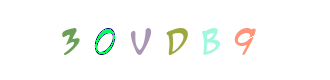3: (64, 0, 144, 80)
9: (199, 0, 279, 80)
B: (126, 0, 206, 80)
D: (125, 0, 205, 80)
O: (65, 0, 145, 80)
V: (88, 0, 168, 80)
